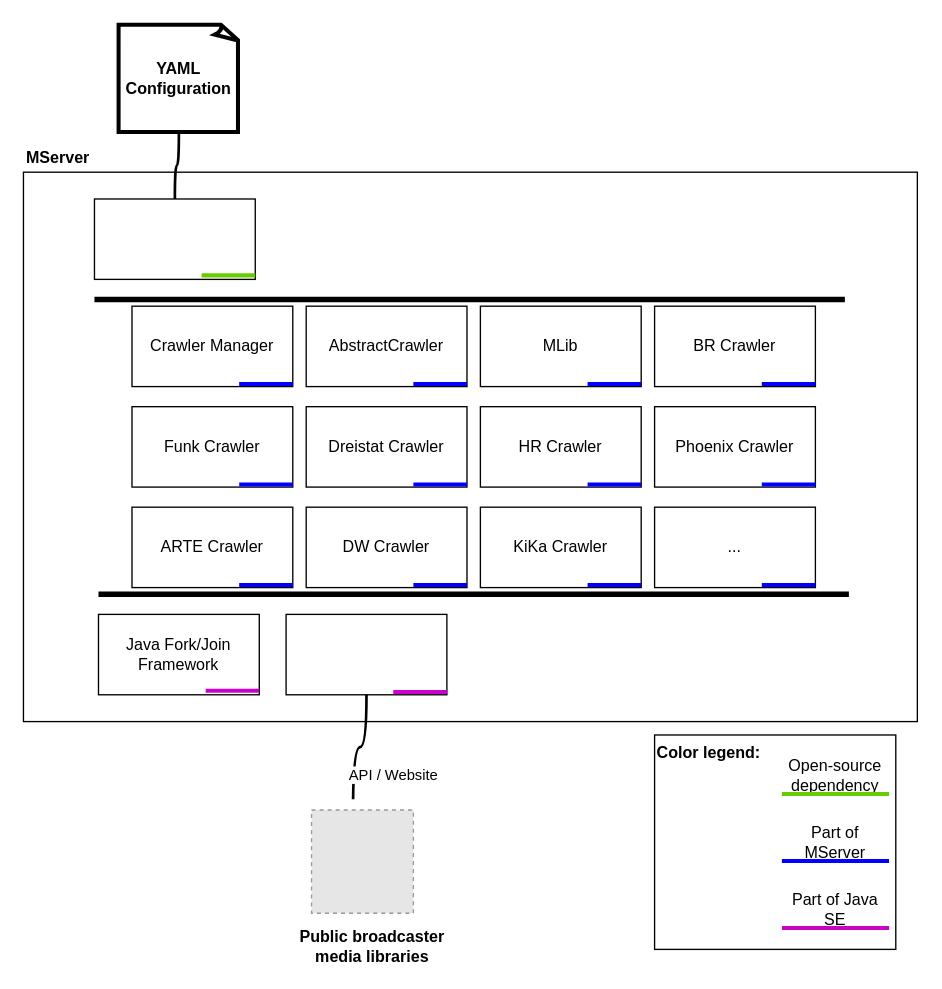
The diagram is 942 pixels wide and 989 high, and some of its shapes have lost their labels. Grey dashed boxes stand in for pictures. The centre of each missing label's shape, as x and y in pixels:
OkHttp: point 366,654
yacl4j: point 174,238
